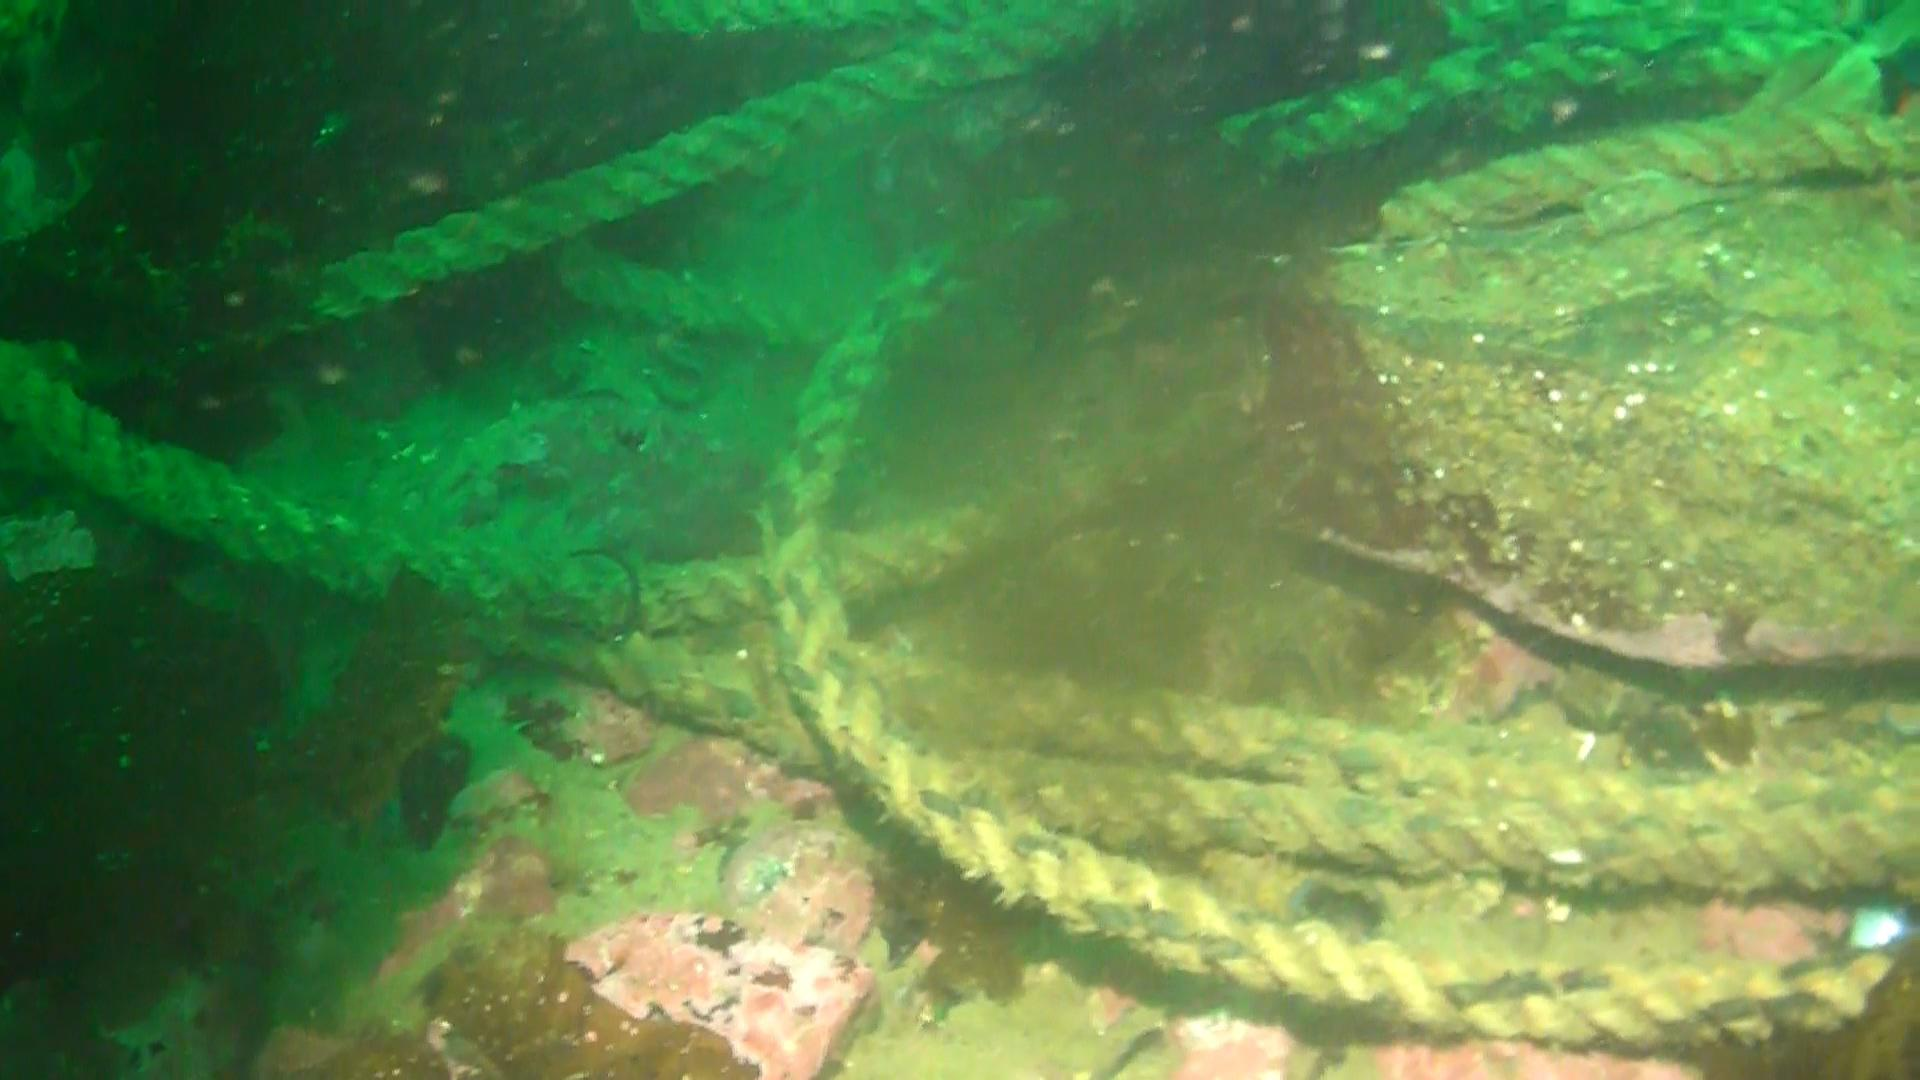bundle of ropes: (0, 0, 1920, 1046)
